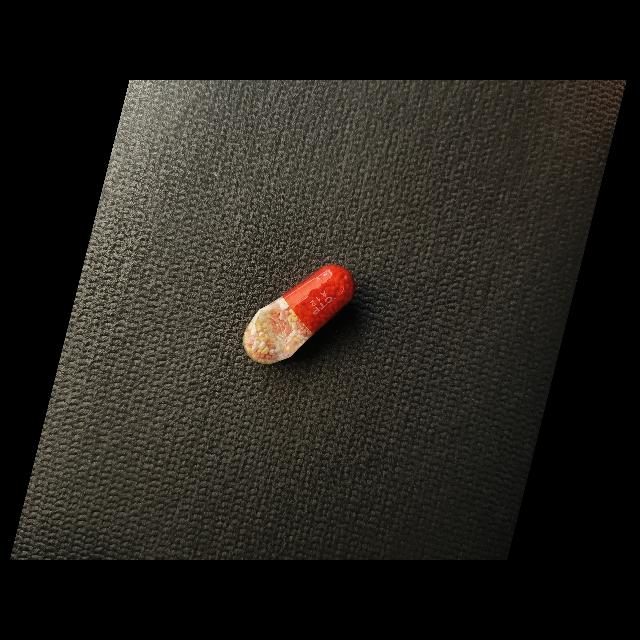Defective Capsule: (243, 265, 355, 364)
